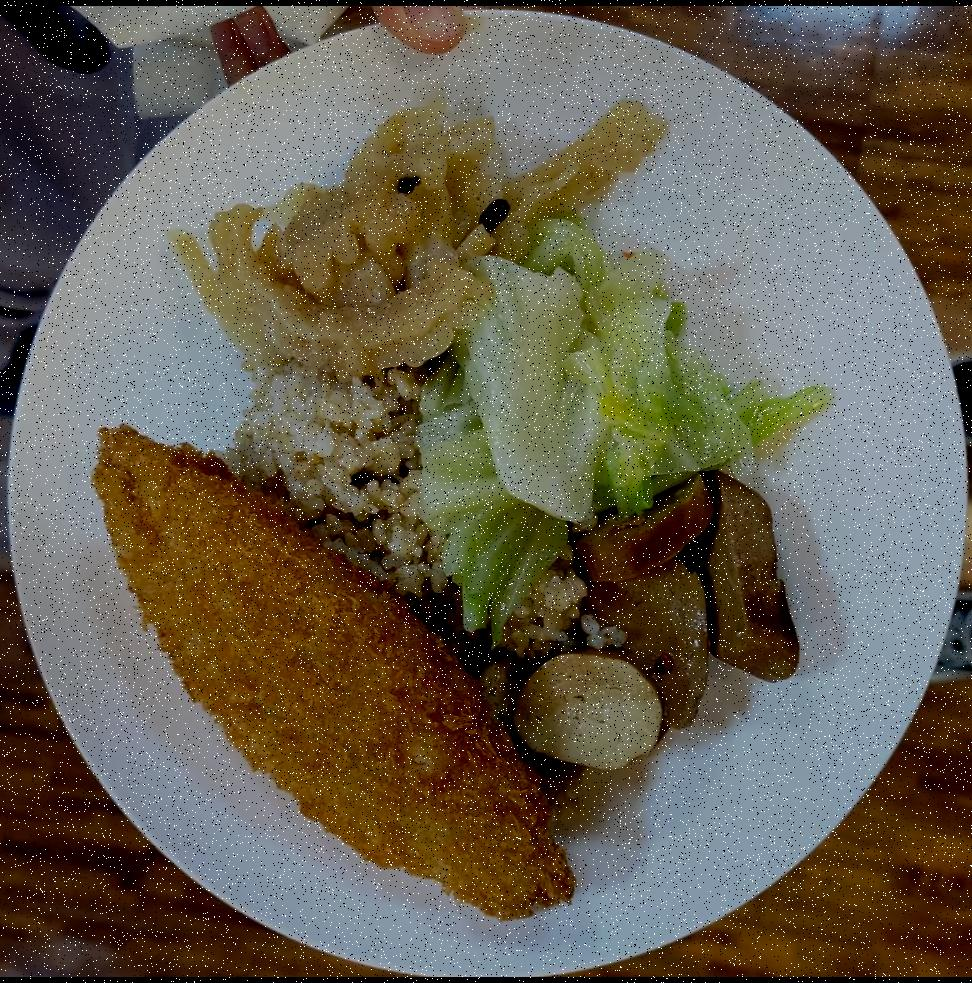brown rice: (223, 360, 428, 590)
fried cod steak: (79, 415, 572, 927)
plate: (4, 5, 972, 975)
side dish: (419, 214, 834, 615), (177, 94, 669, 373), (475, 465, 798, 779)
